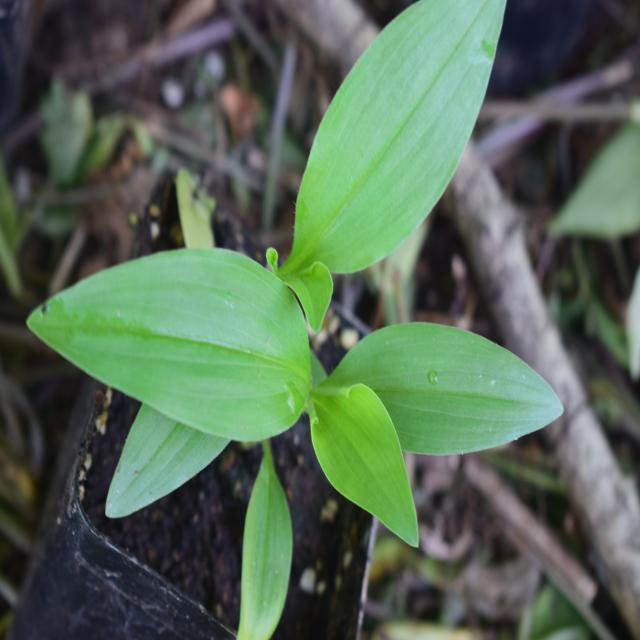Common Dayflower: (46, 222, 561, 555)
